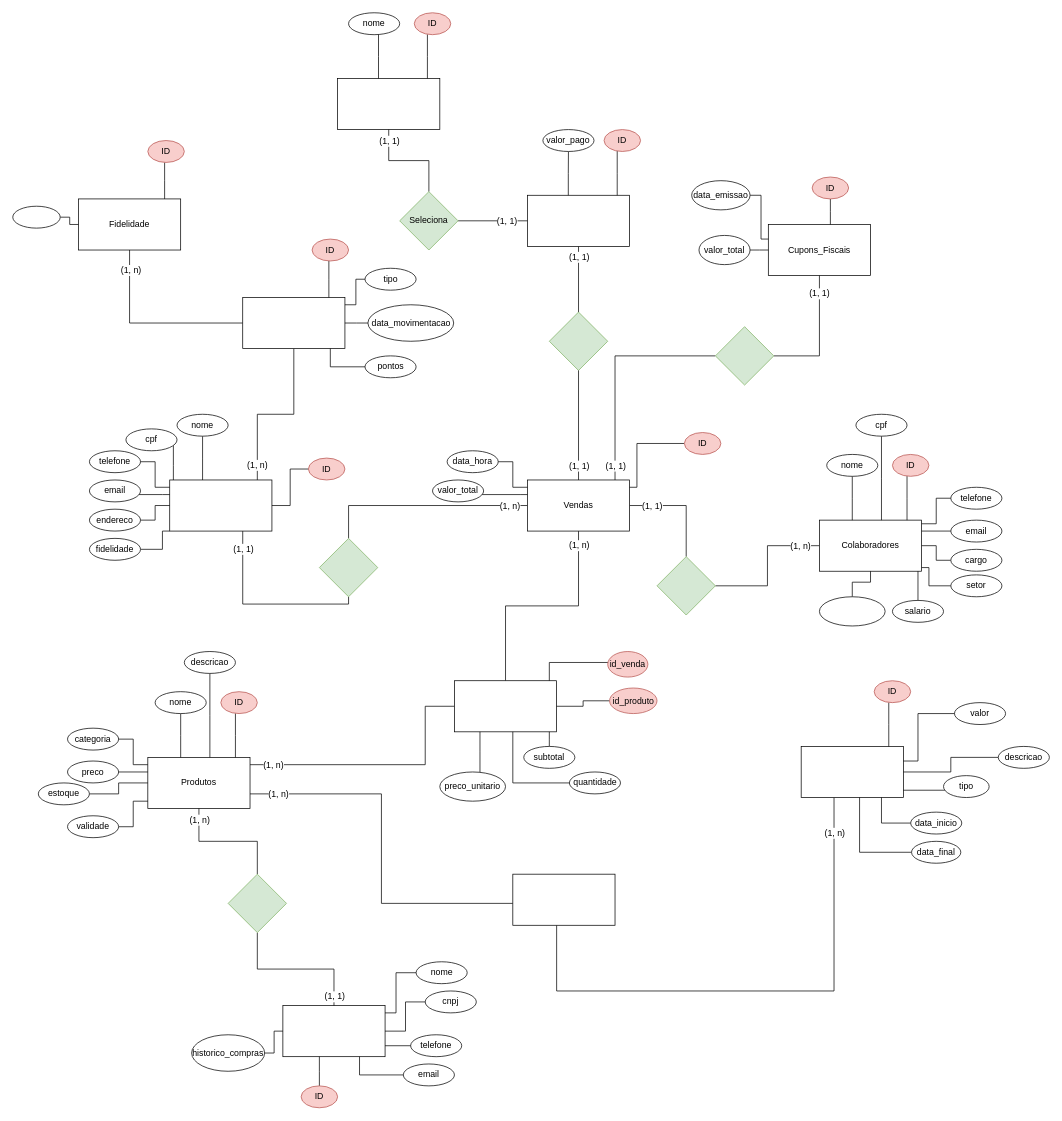
Image size: 1062x1121. Some labels were removed from this diagram. The shapes that lost their labels are listed below. From the top down, each one's box as (x1, y1, x2, y2) in pixels, then its label:
(337, 78, 440, 130): Forma_P agamento
(12, 205, 60, 228): nivel
(527, 195, 630, 246): Pagamentos
(242, 297, 345, 349): Fidelidade_Pontos
(549, 311, 608, 370): Exige
(715, 326, 774, 385): Emite
(169, 479, 272, 531): Clientes
(319, 538, 378, 597): Compra
(656, 556, 715, 615): Efetua
(819, 596, 885, 626): data_admissão
(454, 680, 557, 732): Itens_Venda
(800, 746, 903, 798): Promocoes
(227, 873, 287, 933): Fornece
(512, 873, 615, 925): Promocoes_Produtos
(282, 1005, 385, 1057): Fornecedores
